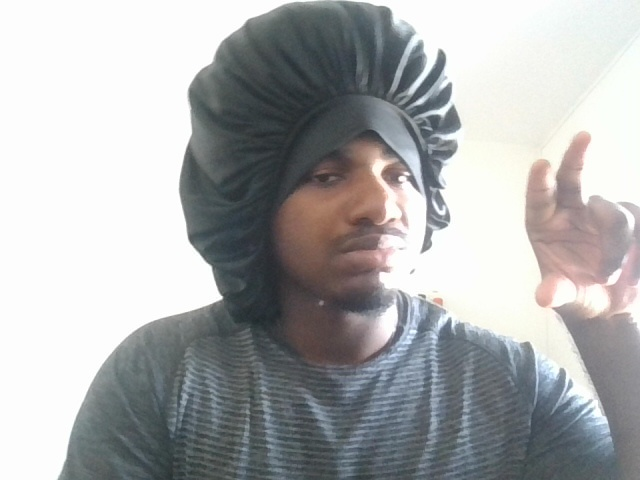No: (494, 116, 640, 350)
